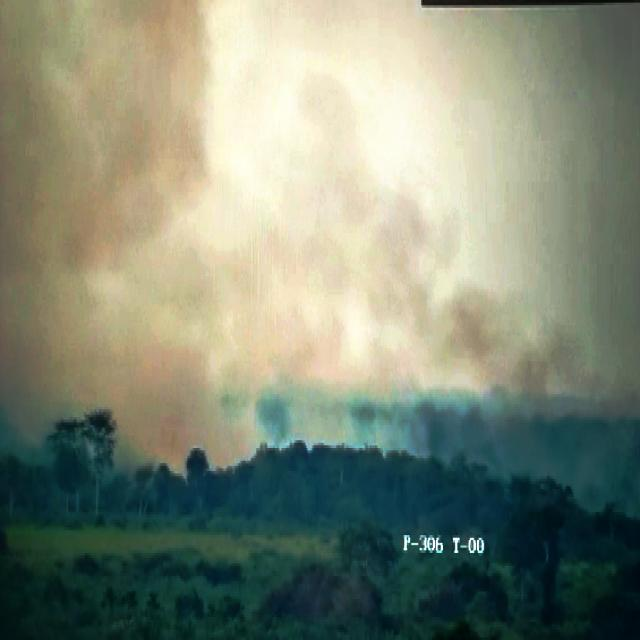asap: (1, 1, 275, 508), (216, 17, 445, 506), (437, 247, 638, 533)
